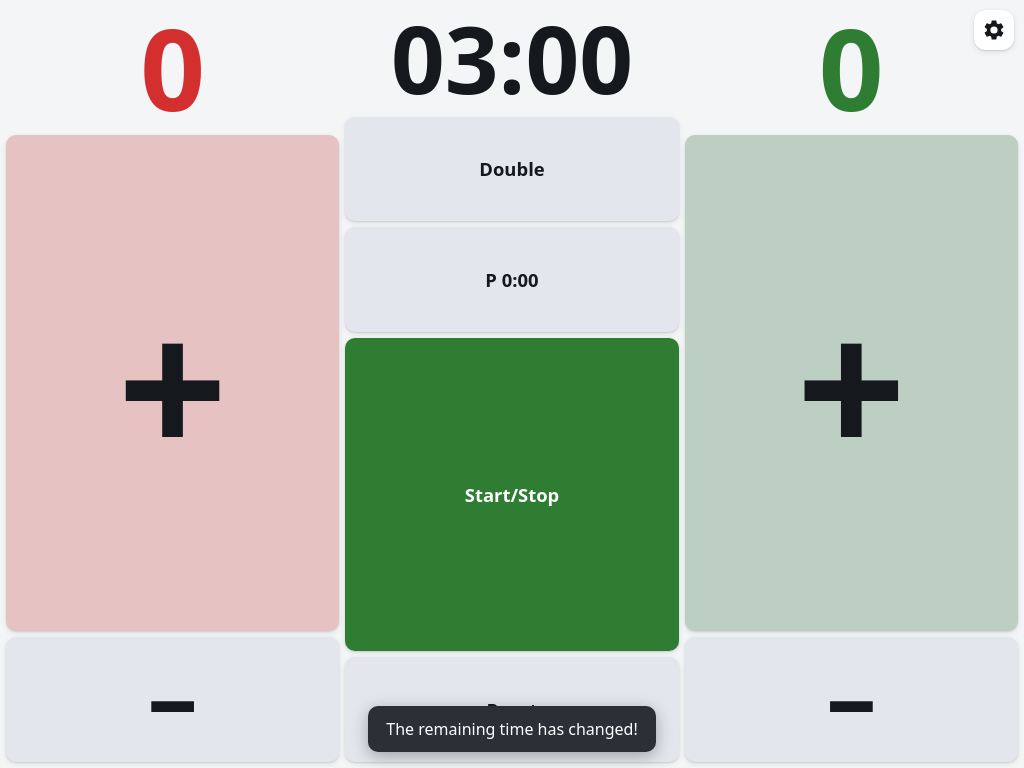
Test: scoring page › awards P-cards from the P button
Click the button named "Unwillingness to fight".
click(512, 280)  # box [345, 227, 679, 332]
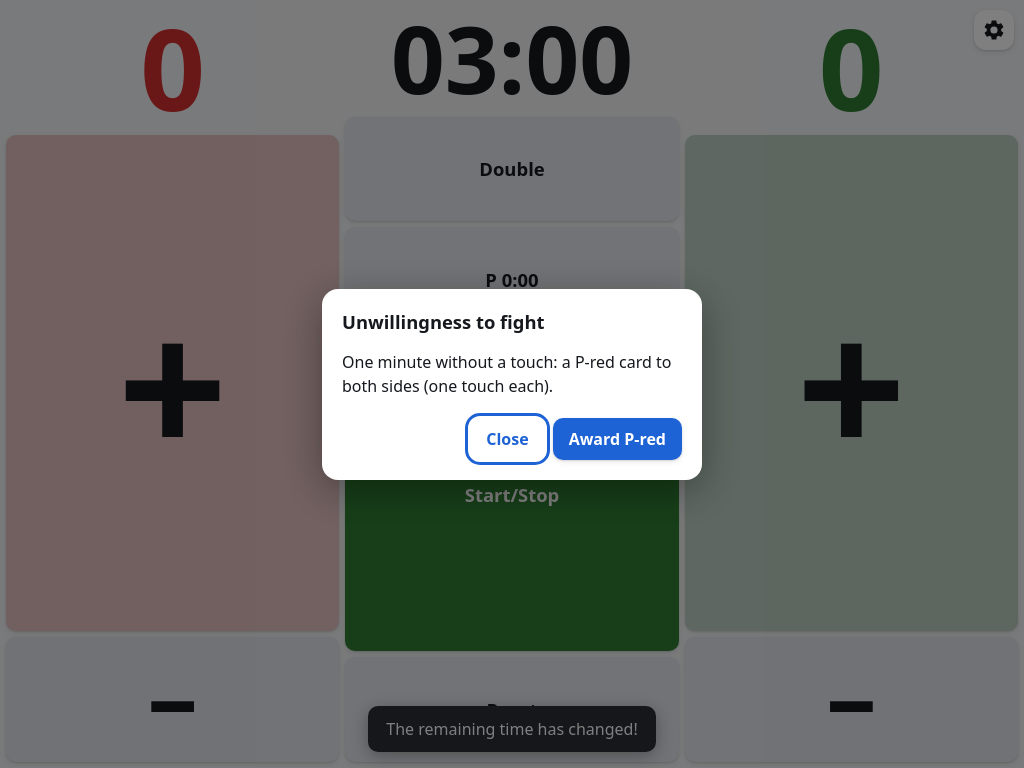
Click the button "Award P-red".
click(617, 438)  # box [553, 418, 682, 460]
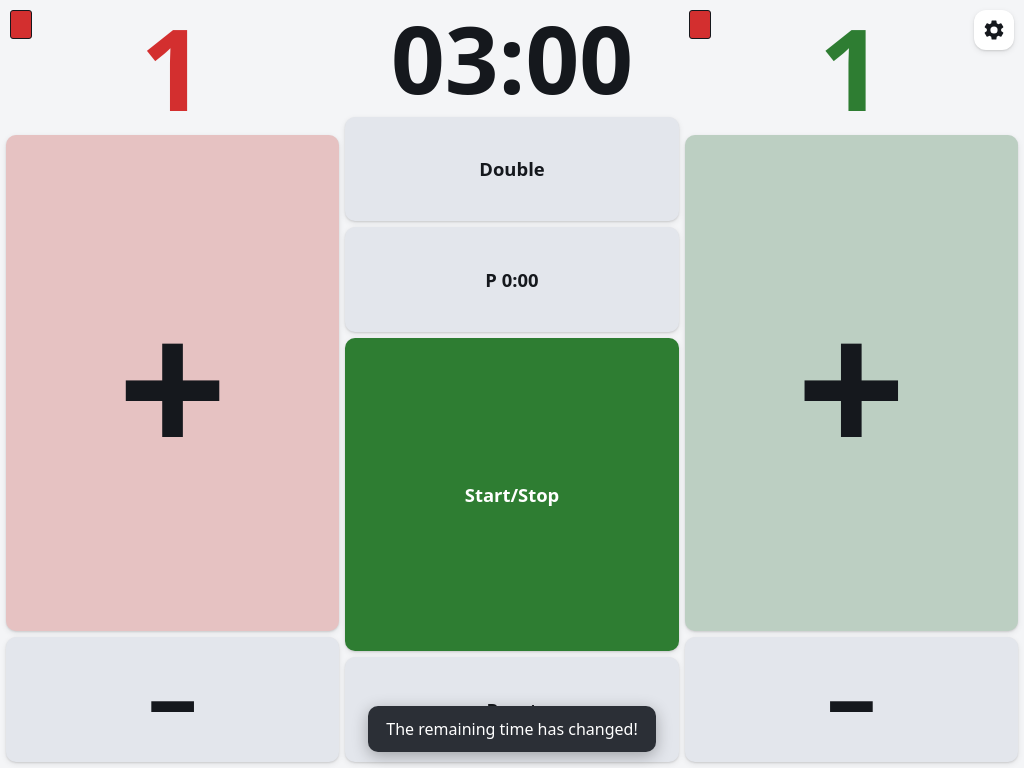
Result: the element named "left P-red" is shown at [10, 10, 32, 39]
Result: the element named "right P-red" is shown at [689, 10, 711, 39]
Click the button named "Unwillingness to fight".
click(512, 280)  # box [345, 227, 679, 332]
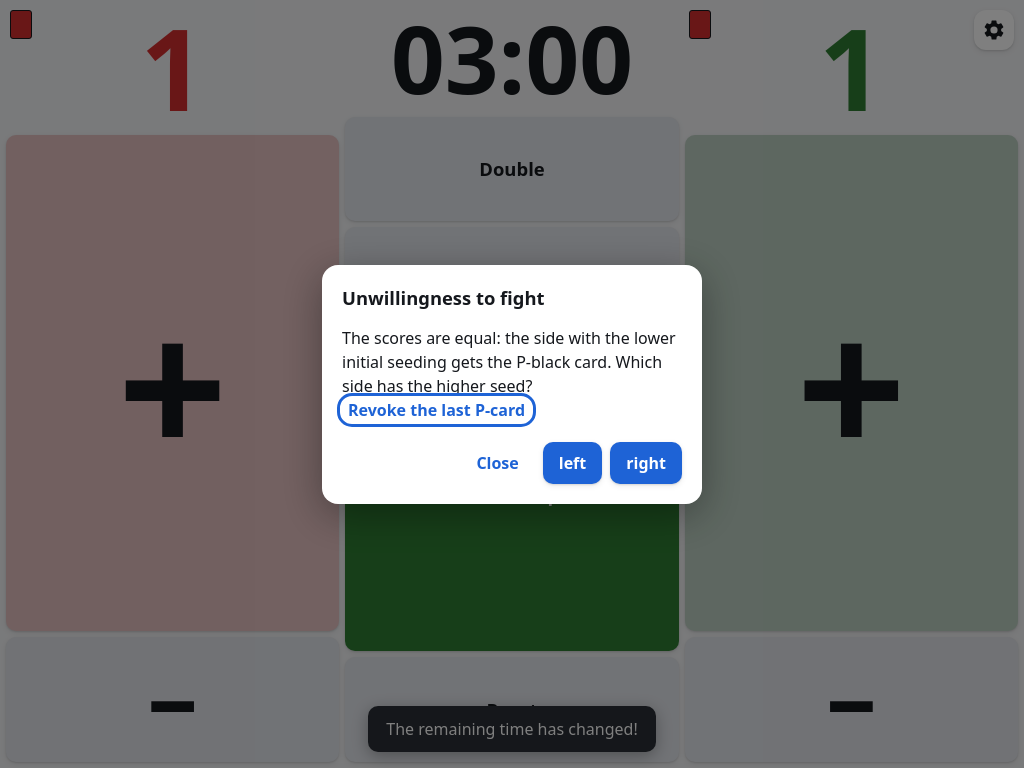
Result: the text "The scores are equal: the side with the lower initial seeding gets the P-black card. Which side has the higher seed?" is shown at [342, 326, 676, 396]
Click the button "left".
click(573, 462)  # box [543, 442, 602, 484]
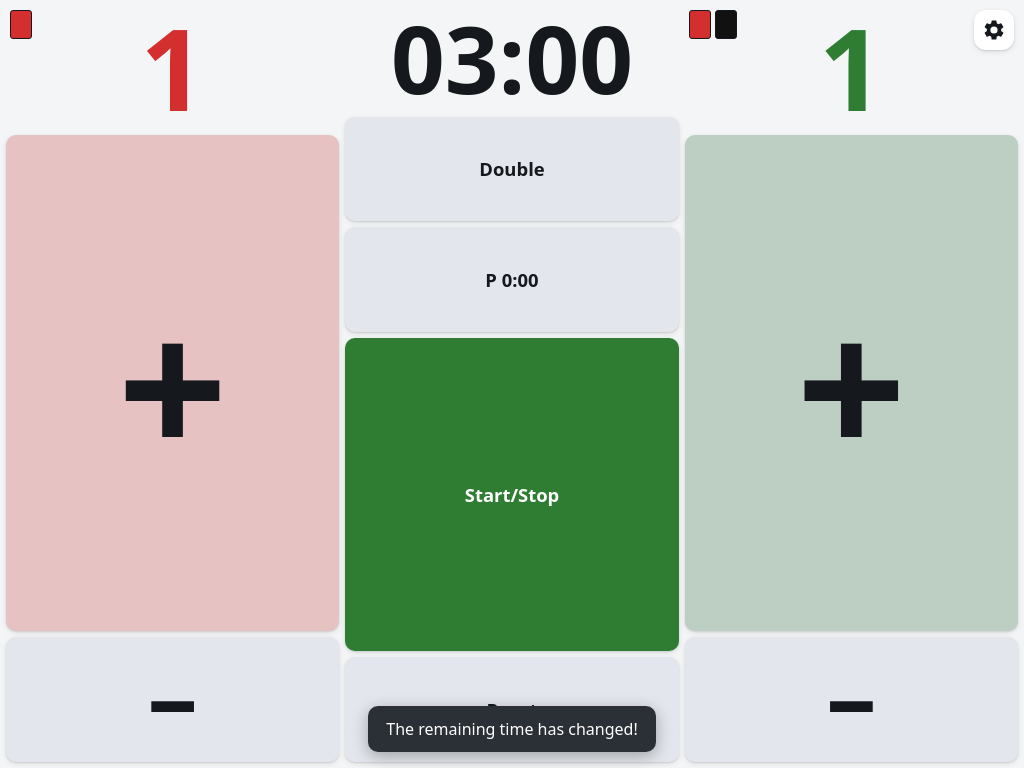
Result: the element named "right P-black" is shown at [715, 10, 737, 39]
